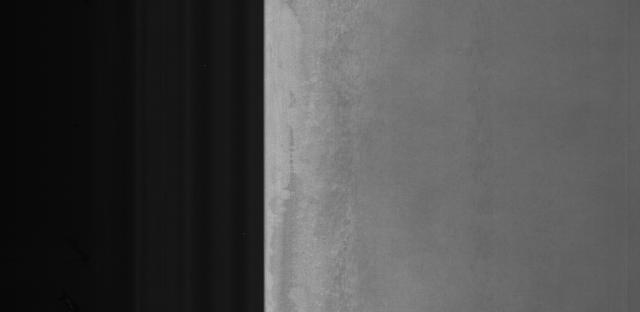silk_spot: (302, 29, 377, 303)
